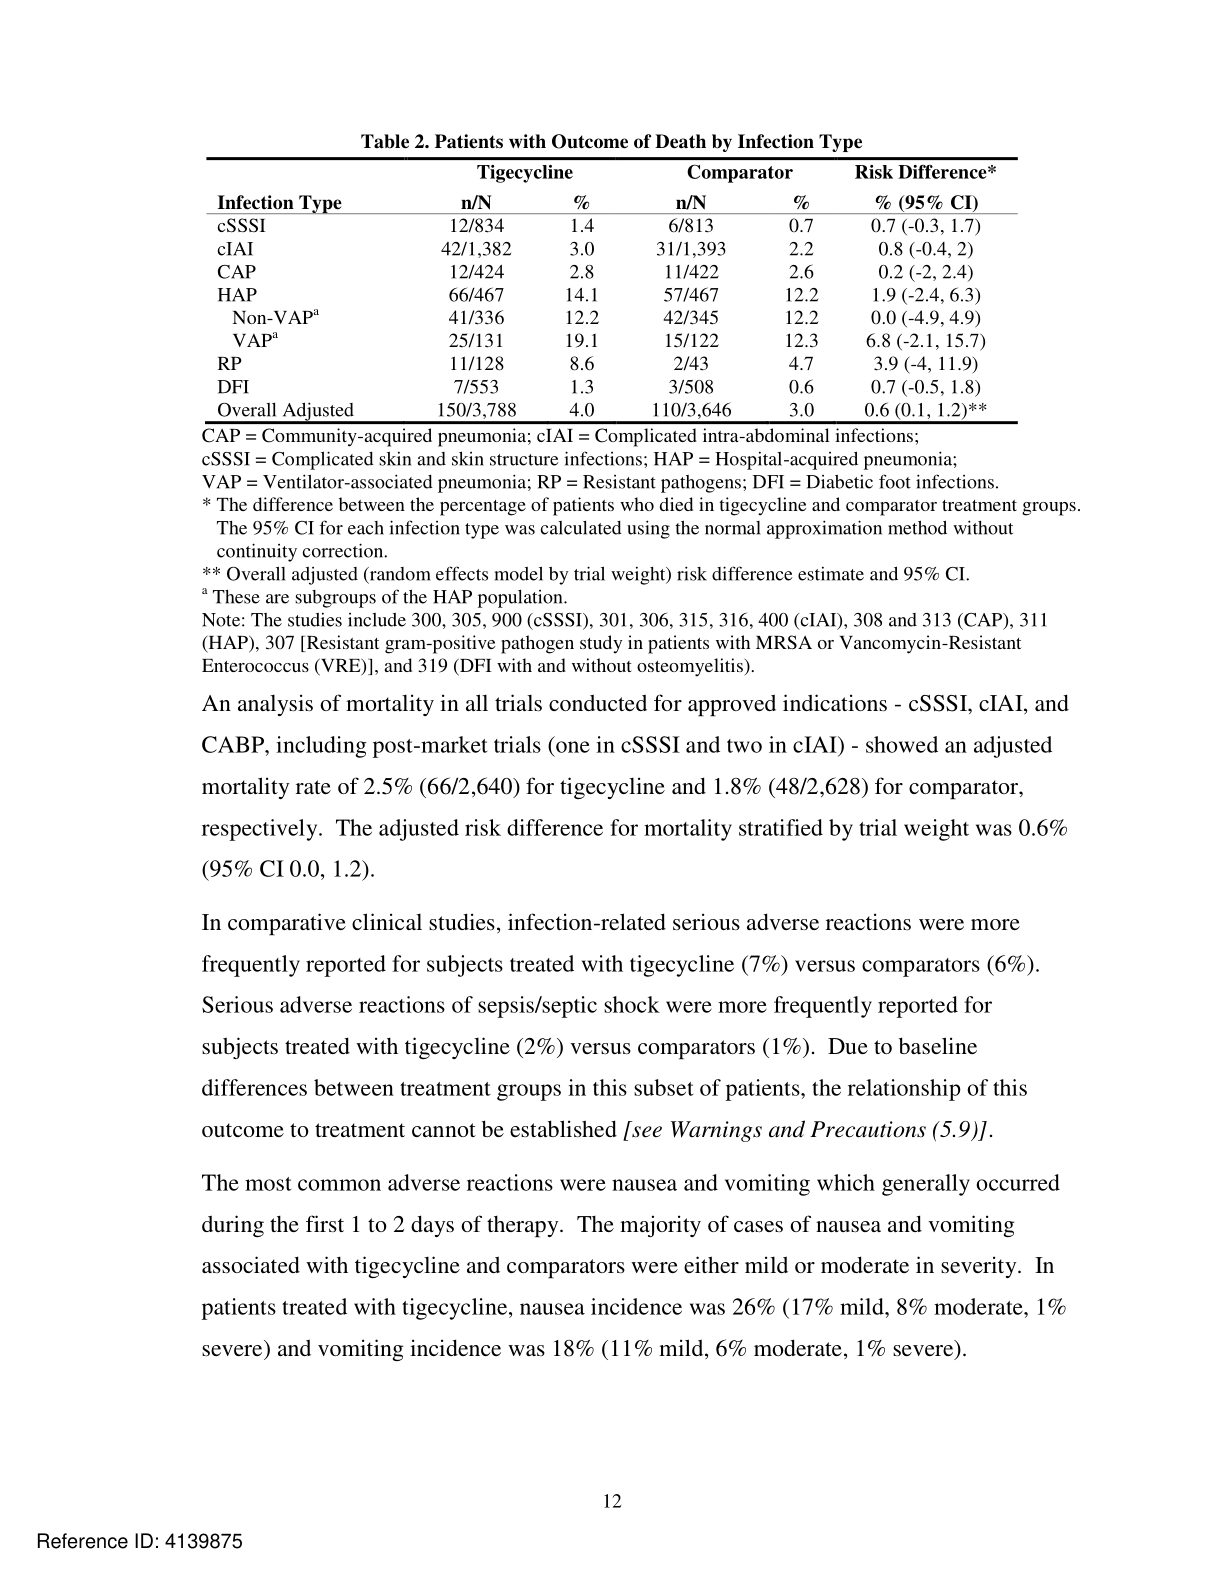partial_lined: (203, 154, 1020, 427)
